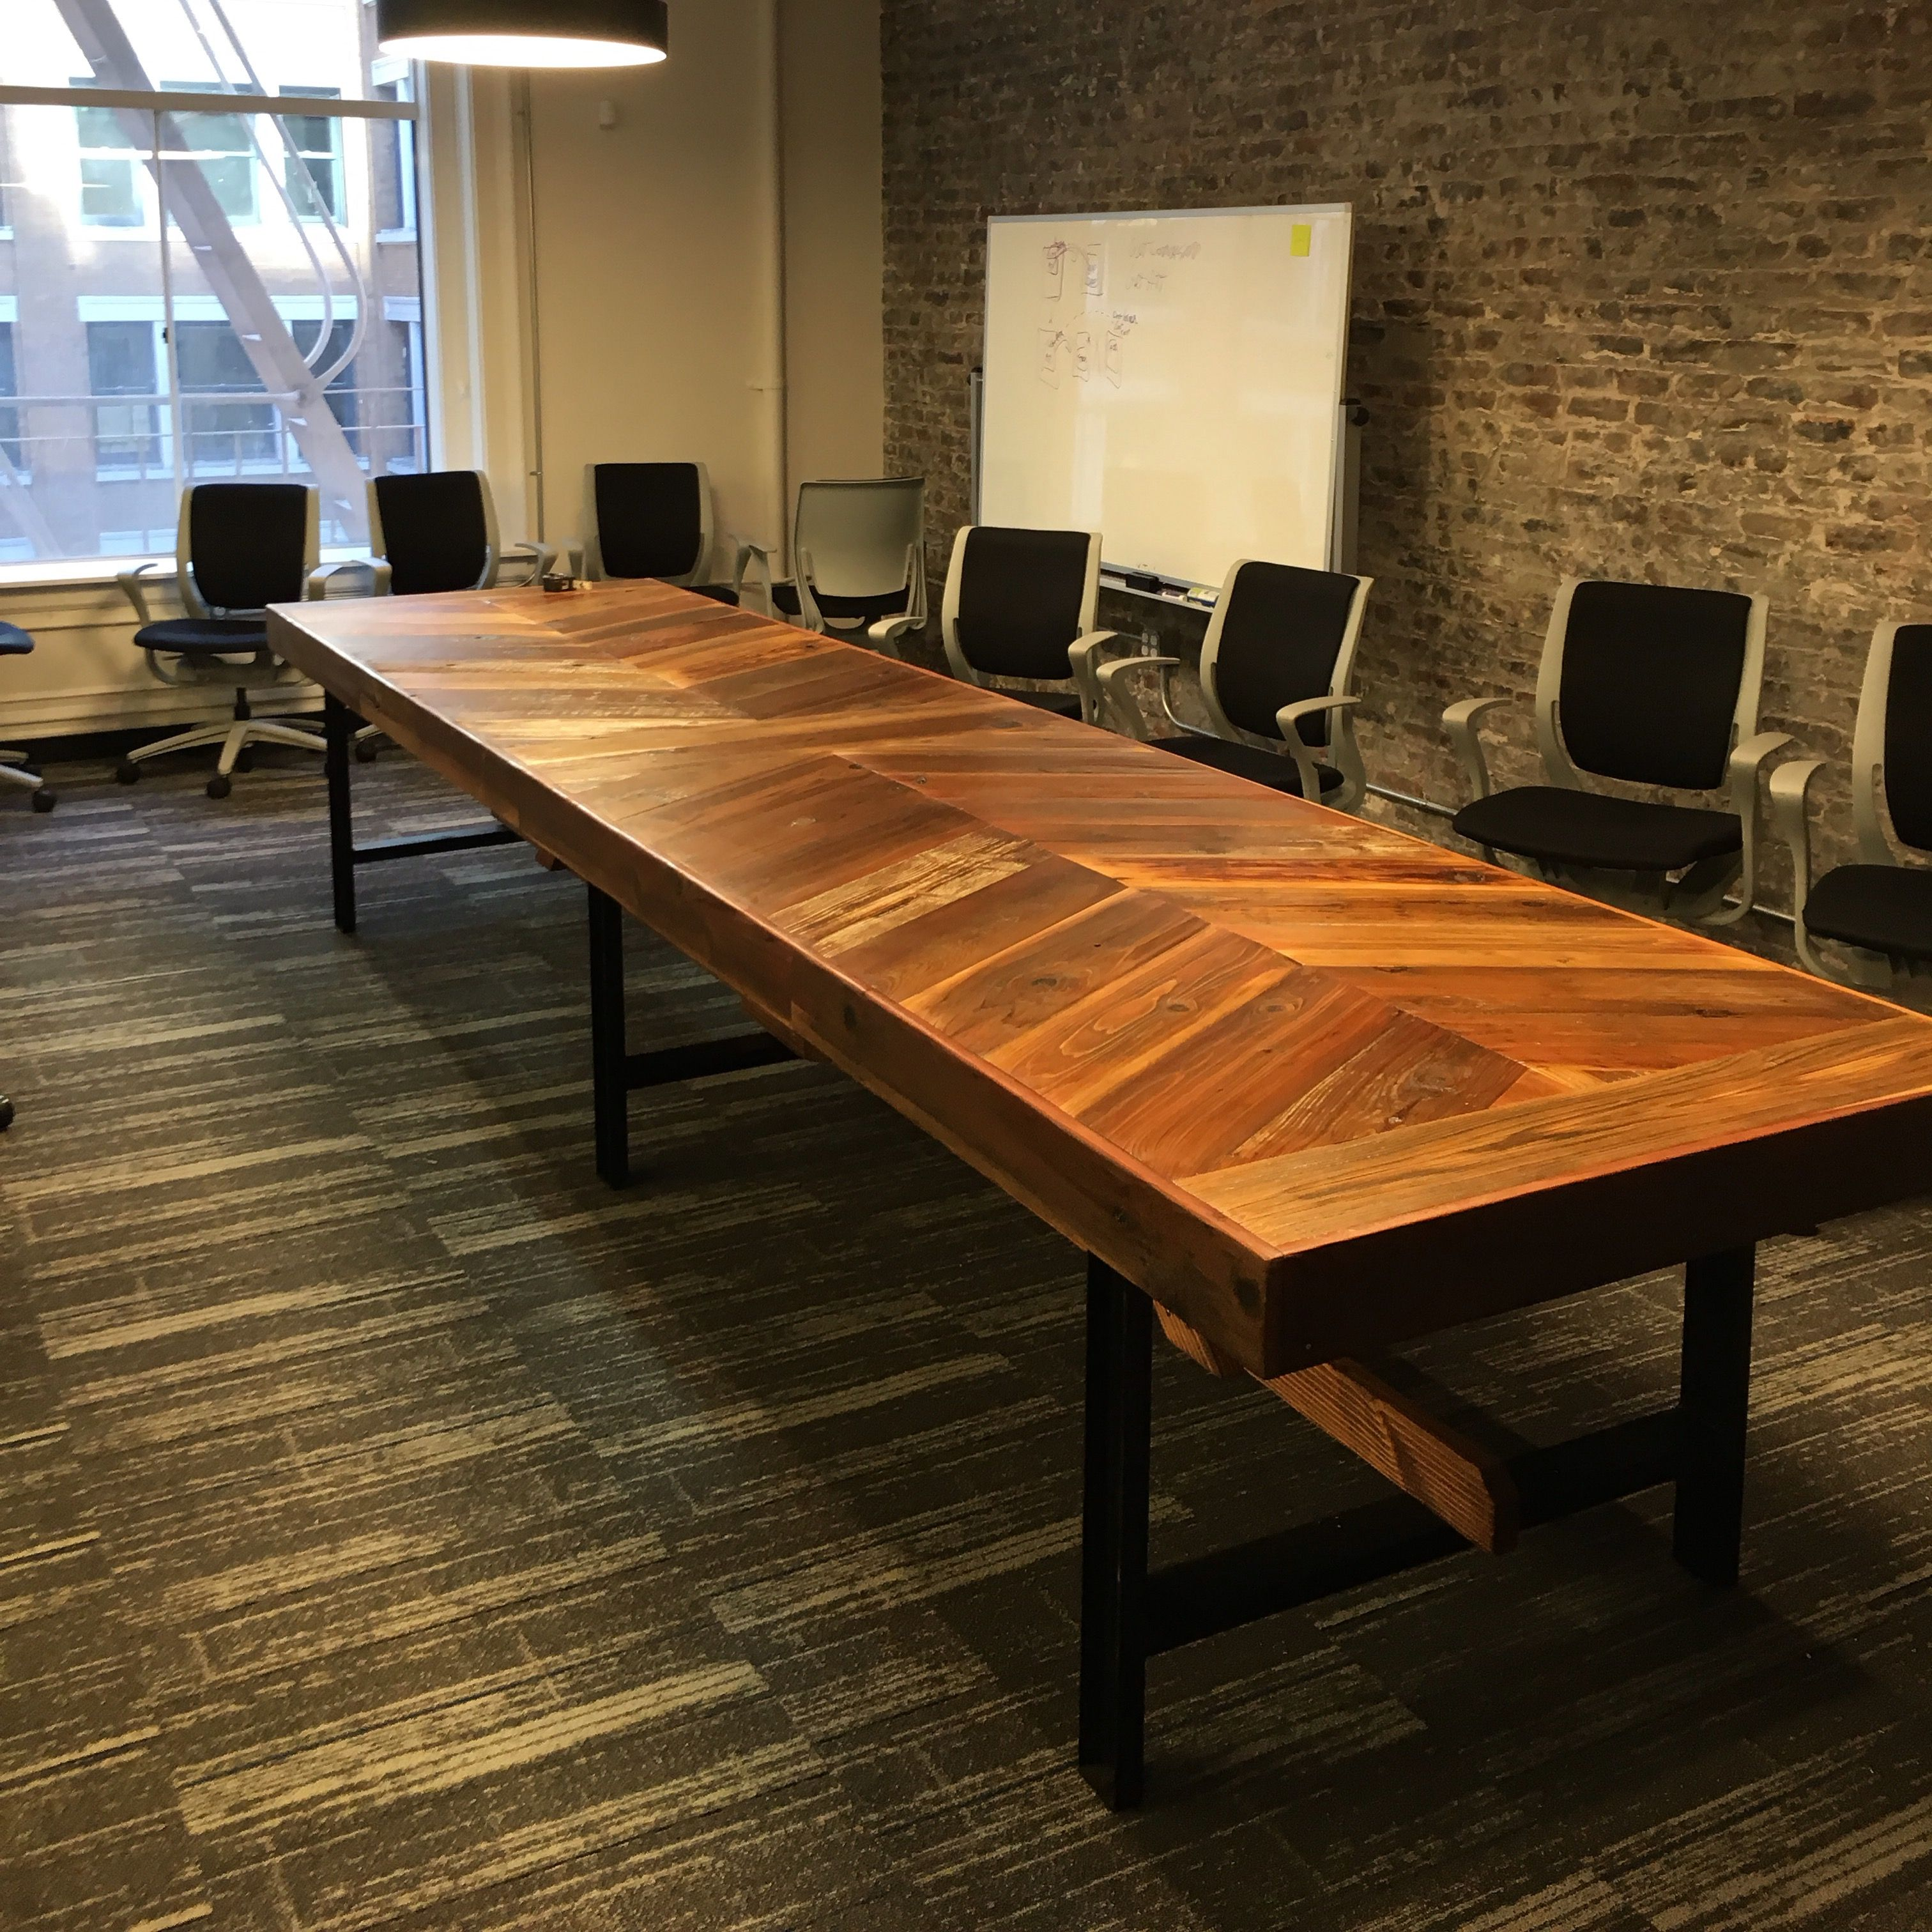conference_table: (265, 574, 1932, 1768)
